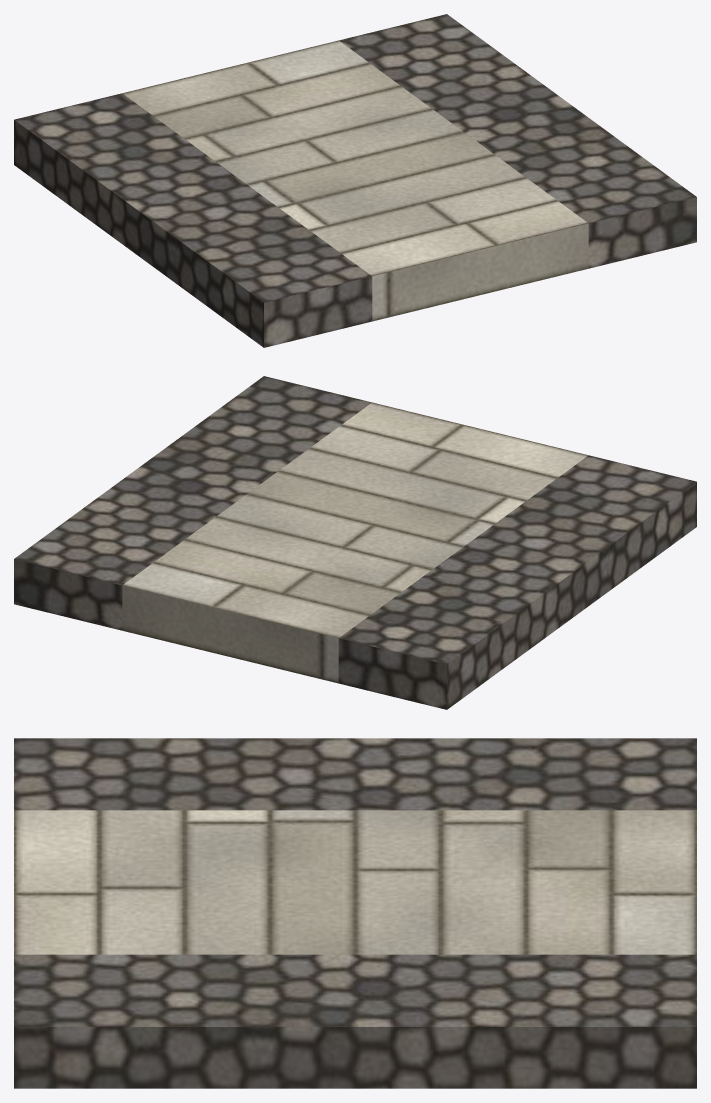
File: road-crossing.lod1.glb
The picture shows the model from 3 angles, top to bottom: view 1: azimuth 30°, elevation 25°; view 2: azimuth 150°, elevation 25°; view 3: azimuth 270°, elevation 25°; orthographic projection. The views are drawn at different scales.
Visible parts, largest first — view 1: RoadCrossing_cobble, RoadCrossing_pale; view 2: RoadCrossing_cobble, RoadCrossing_pale; view 3: RoadCrossing_cobble, RoadCrossing_pale.
Boxes of the visible parts, <box> form: RoadCrossing_cobble: <box>14,14,696,347</box>; RoadCrossing_pale: <box>122,40,588,321</box>; RoadCrossing_cobble: <box>14,376,696,709</box>; RoadCrossing_pale: <box>122,402,588,683</box>; RoadCrossing_cobble: <box>14,738,696,1088</box>; RoadCrossing_pale: <box>14,810,696,954</box>.
Size of the model in its own units: 2 by 0.2 by 2.
2 materials, 2 textured.
